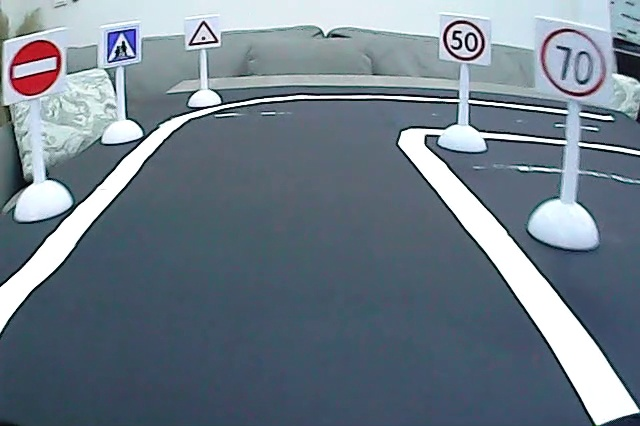do not enter: (7, 37, 65, 98)
green light: (188, 17, 220, 47)
school crossing: (103, 25, 139, 64)
speed limit 50: (441, 16, 487, 63)
speed limit 70: (538, 25, 610, 100)
